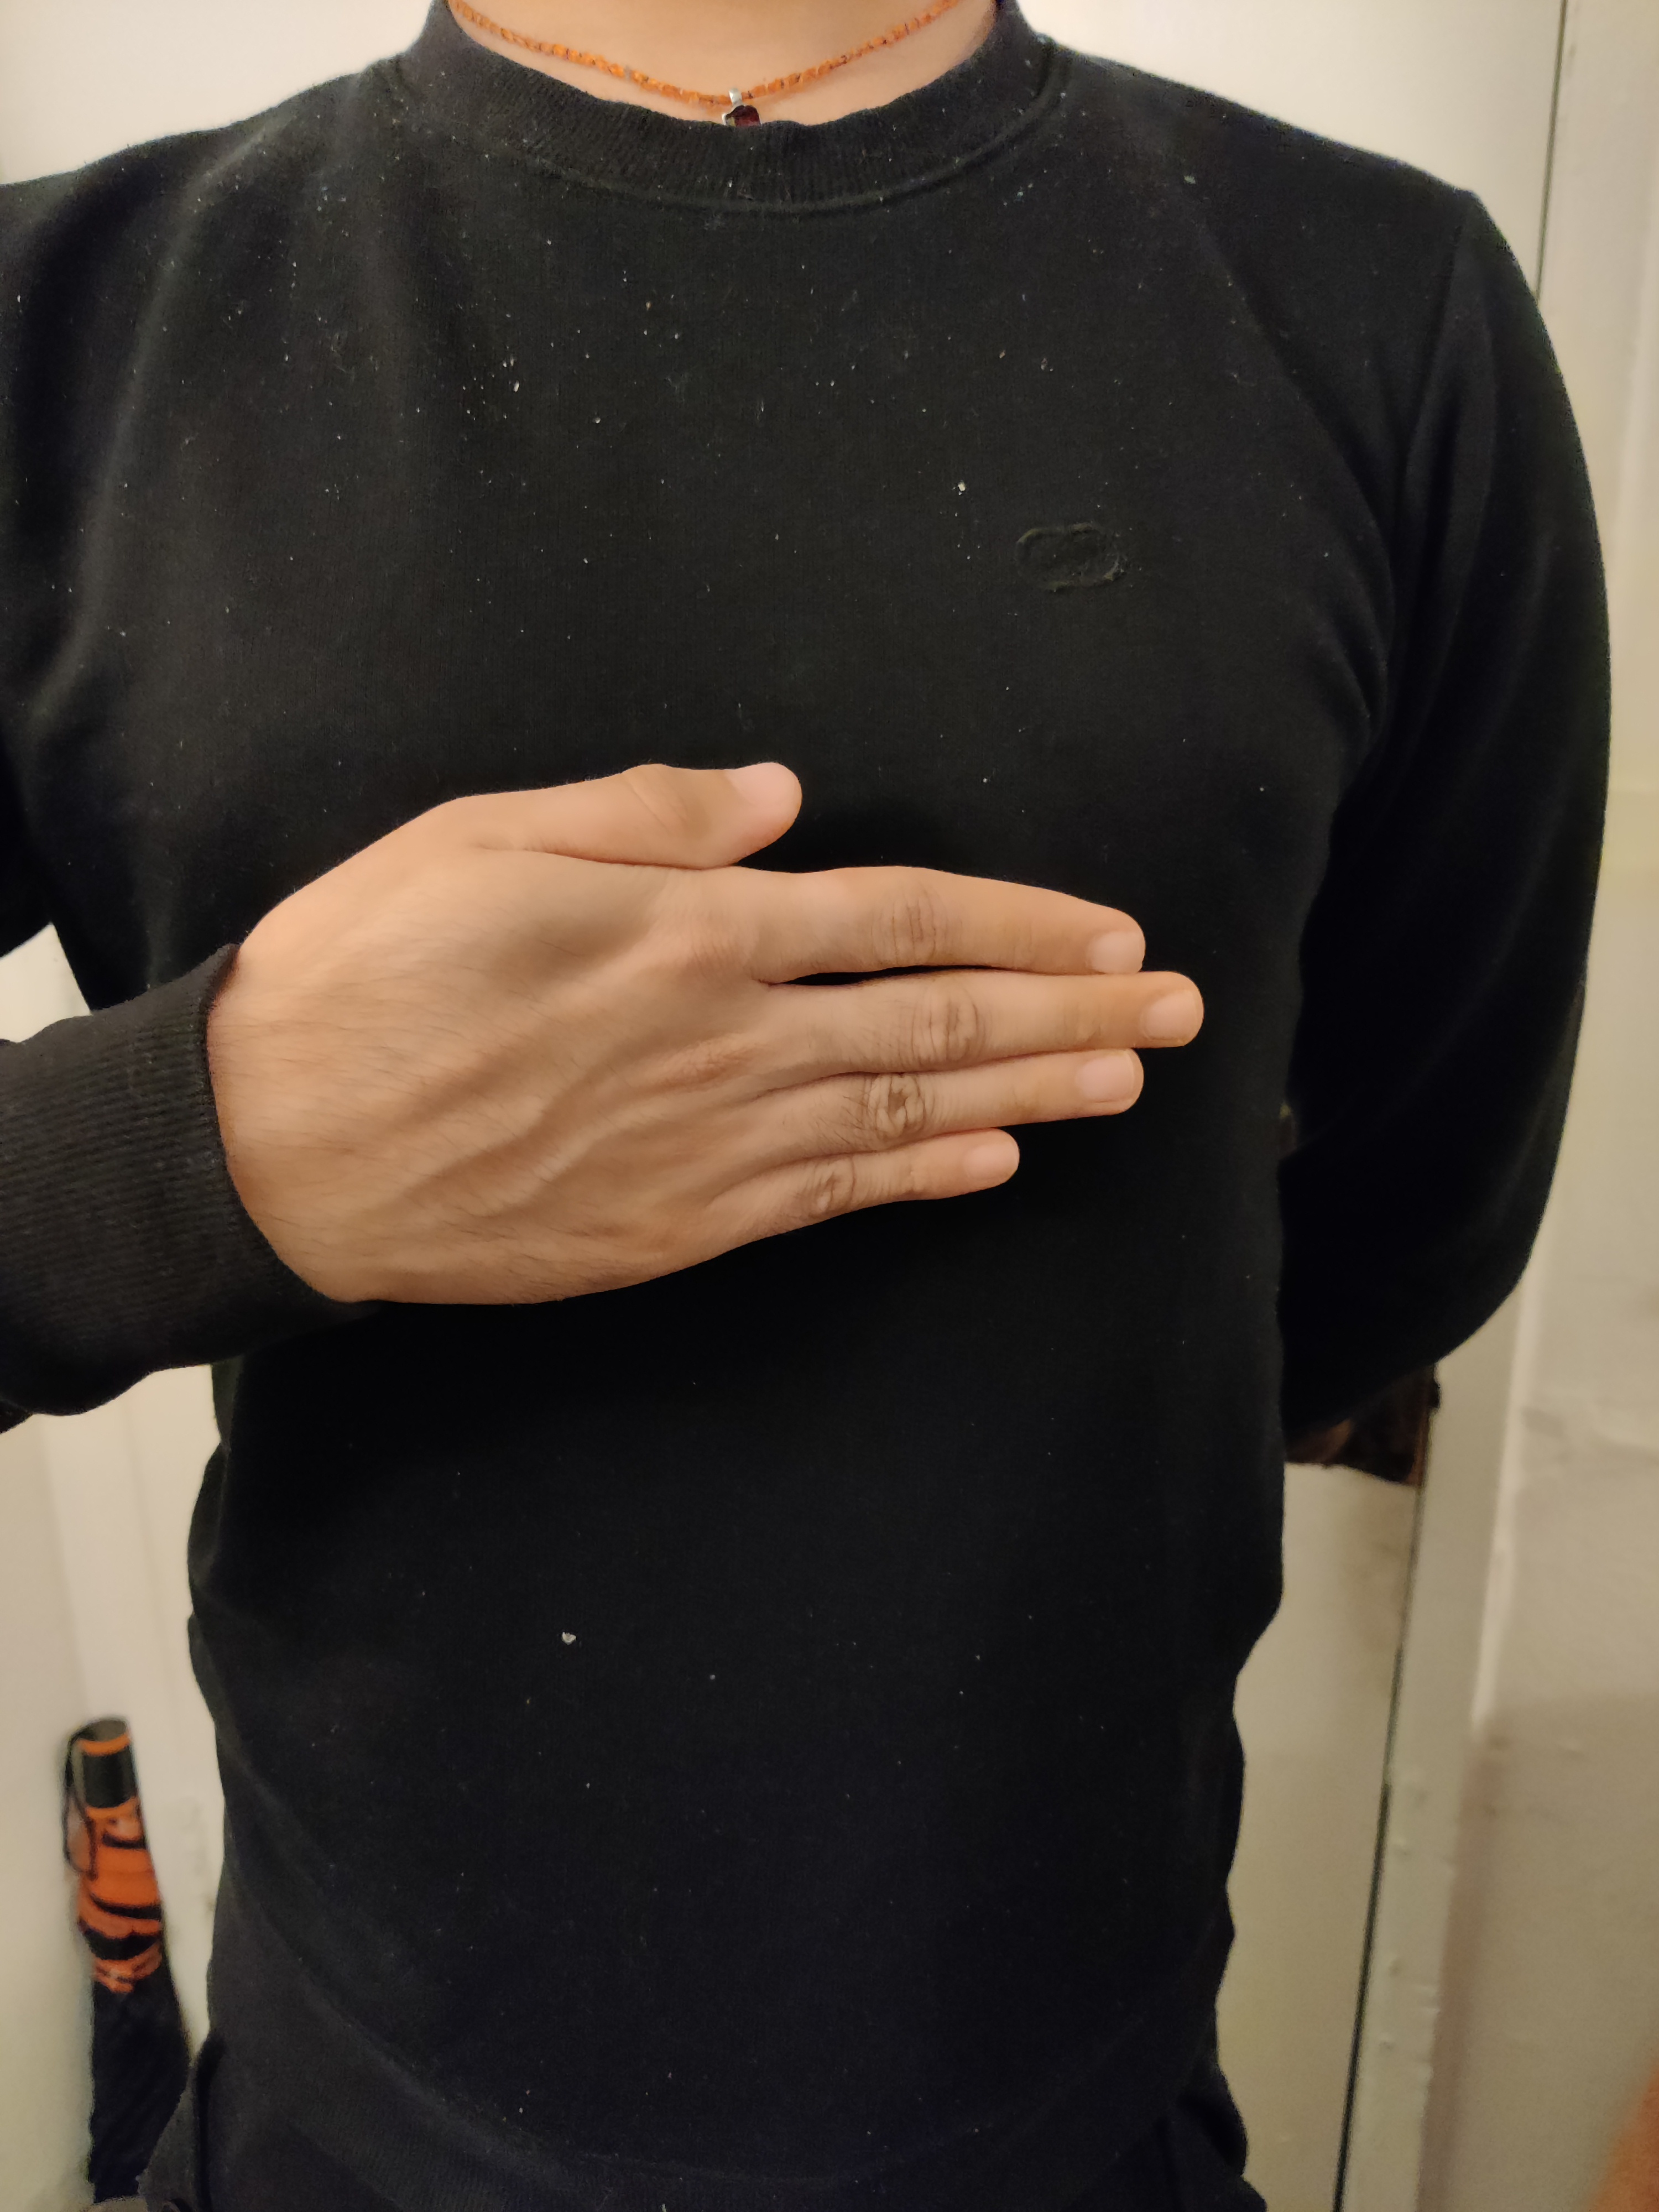left: (10, 563, 1284, 1364)
